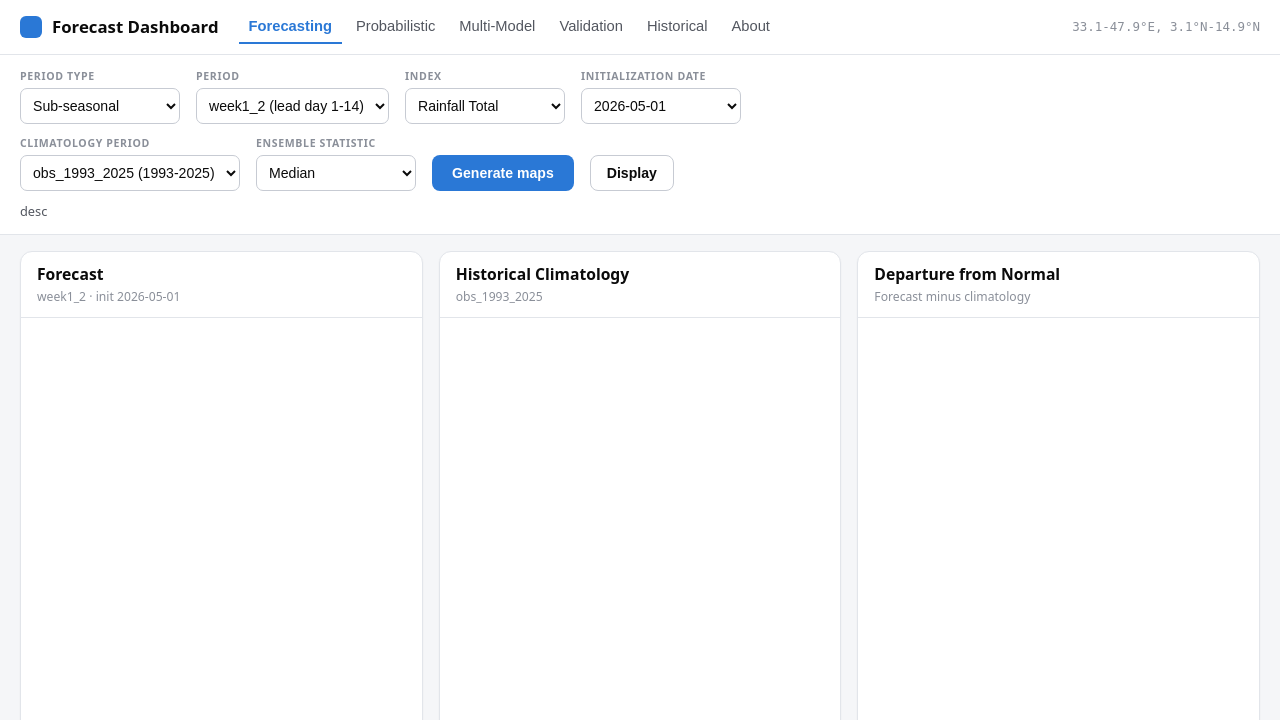
Scenario: App › switching the top nav tab shows a placeholder for unbuilt sections
Check: the text "Forecast Dashboard" is shown, box [52,15,218,39]
Click the button "Validation". click: (591, 27)
box: [549,10,633,44]
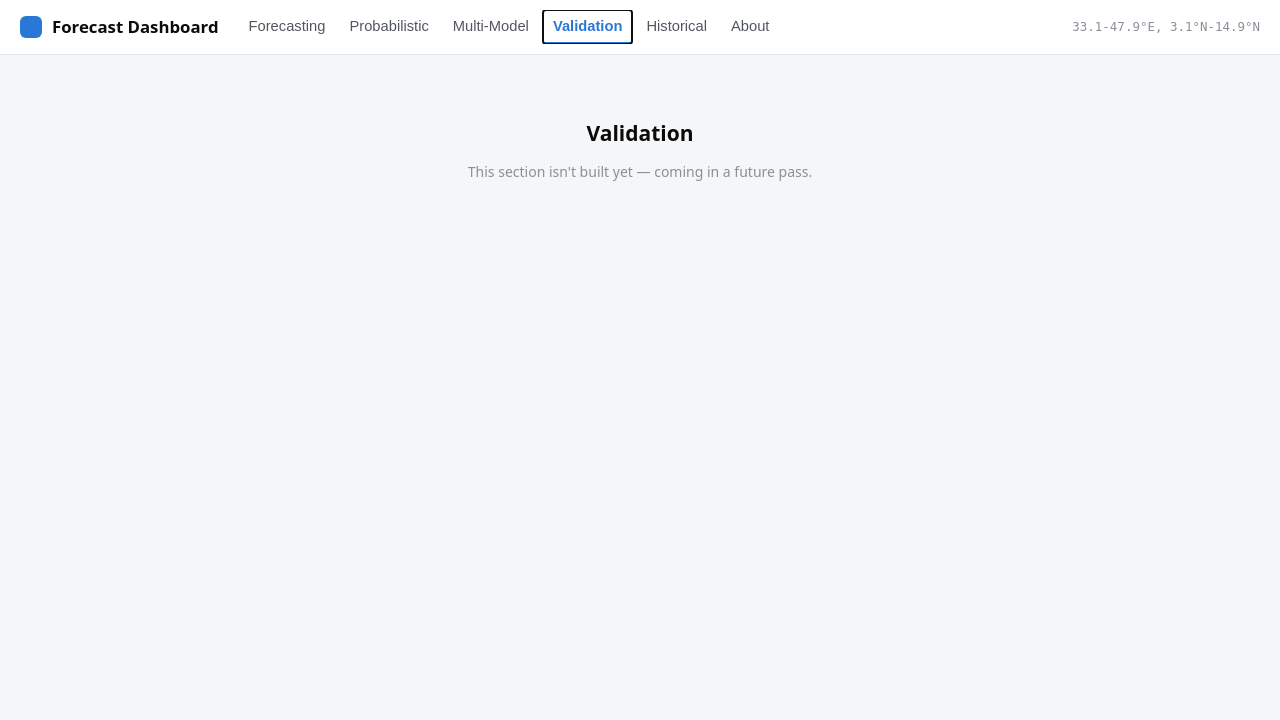
Check: the text "This section isn't built yet — coming in a future pass." is shown, box [468,162,812,181]
Check: the button "Generate maps" is gone
